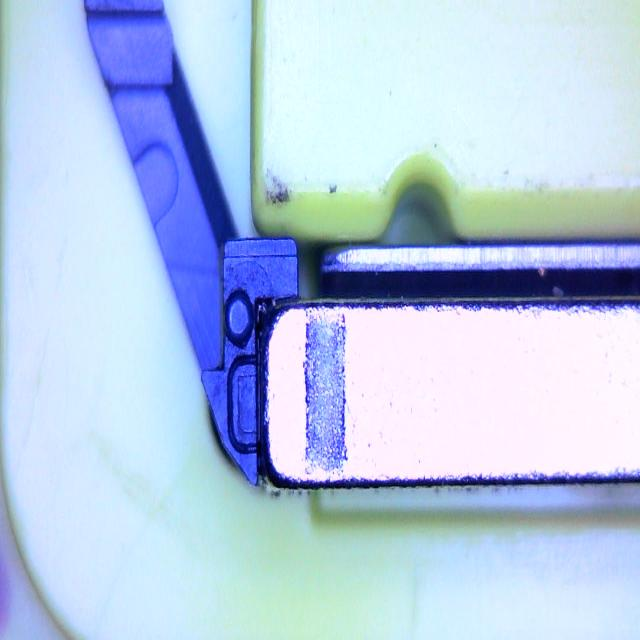lacking: (227, 352, 262, 454)
